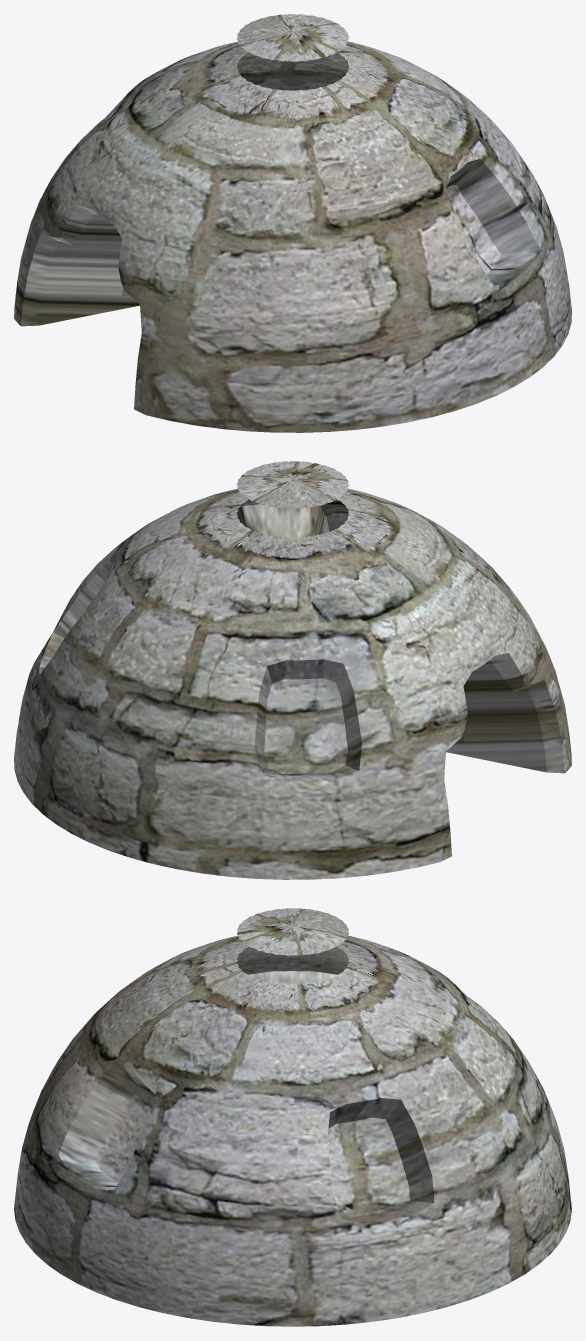
Rendered from building1 stone.FBX.
3 renders of one model, top to bottom at view 1: azimuth 30°, elevation 25°; view 2: azimuth 150°, elevation 25°; view 3: azimuth 270°, elevation 25°, orthographic.
Visible parts, largest first — view 1: Sphere001, 对象001; view 2: Sphere001, 对象001; view 3: Sphere001, 对象001.
Boxes of the visible parts, box(x1,y1,x2,y2) form: Sphere001: box(14, 41, 571, 432); 对象001: box(236, 14, 349, 61); Sphere001: box(14, 488, 571, 879); 对象001: box(236, 461, 349, 508); Sphere001: box(14, 935, 571, 1326); 对象001: box(237, 908, 348, 955).
Size of the model in its own units: 51.89 by 31.41 by 54.85.
